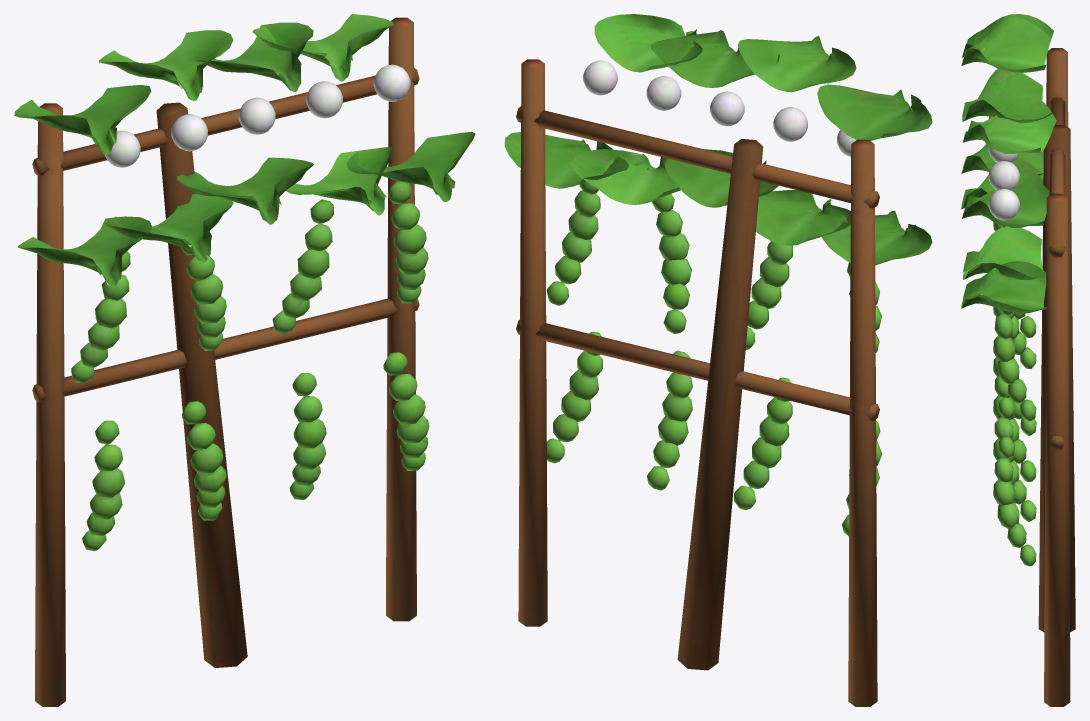
The model's file is crop_pea.glb.
The picture shows the model from 3 angles, left to right: view 1: azimuth 30°, elevation 25°; view 2: azimuth 150°, elevation 25°; view 3: azimuth 270°, elevation 25°; orthographic projection. The views are drawn at different scales.
Parts seen in each view (by area): view 1: crop_pea, fruit; view 2: crop_pea, fruit; view 3: crop_pea, fruit.
Part boxes in pixels (x1,y1,x2,y2): crop_pea: (14,14,475,706); fruit: (71,181,429,550); crop_pea: (504,14,932,706); fruit: (546,182,882,536); crop_pea: (961,14,1075,706); fruit: (993,222,1036,566).
Bounding box in the file's own units: 0.3364 × 0.4626 × 0.0865.
Materials: 1 (1 with a texture image).
